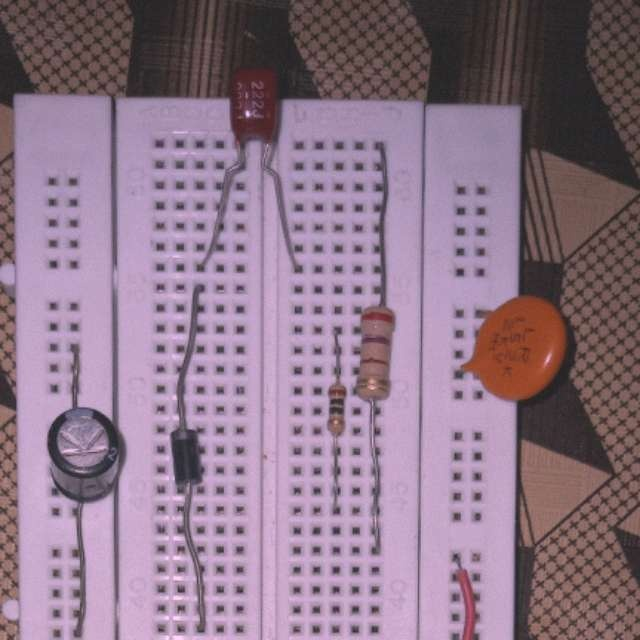capacitor: (465, 293, 570, 403), (47, 406, 122, 506), (228, 66, 280, 142)
resistor: (356, 305, 398, 403), (326, 382, 349, 438)
